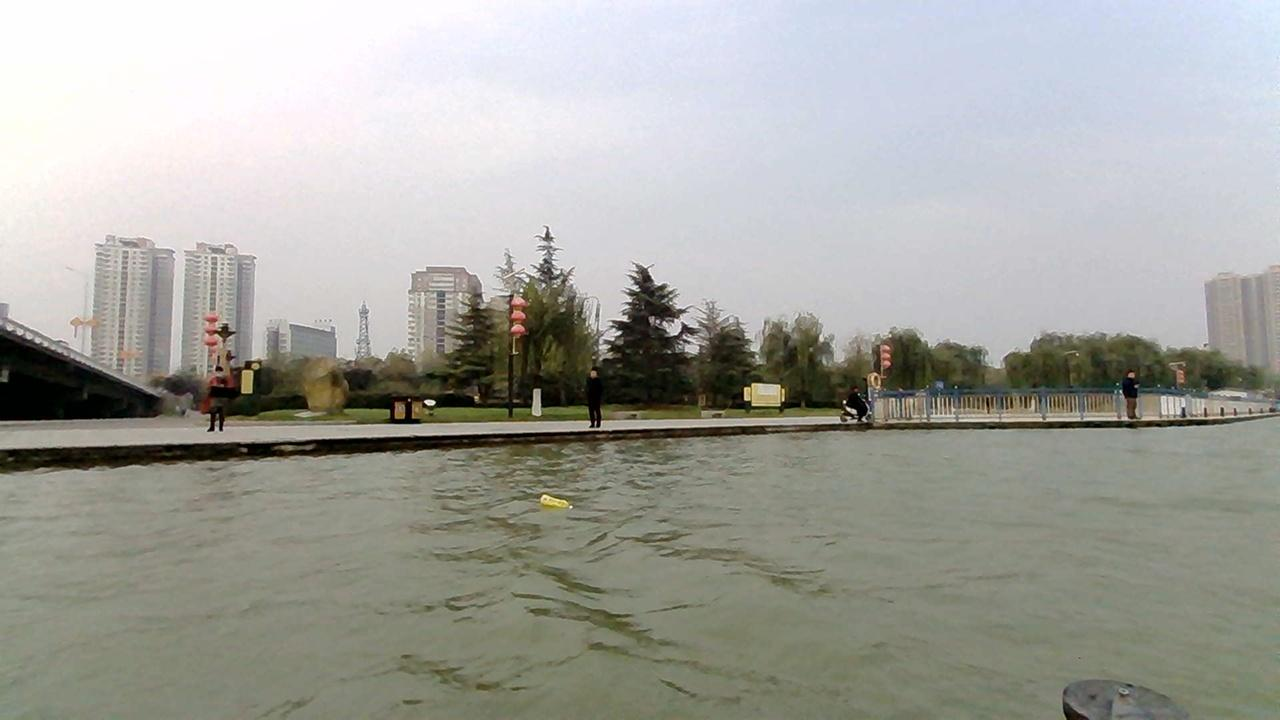bottle: (539, 493, 573, 509)
